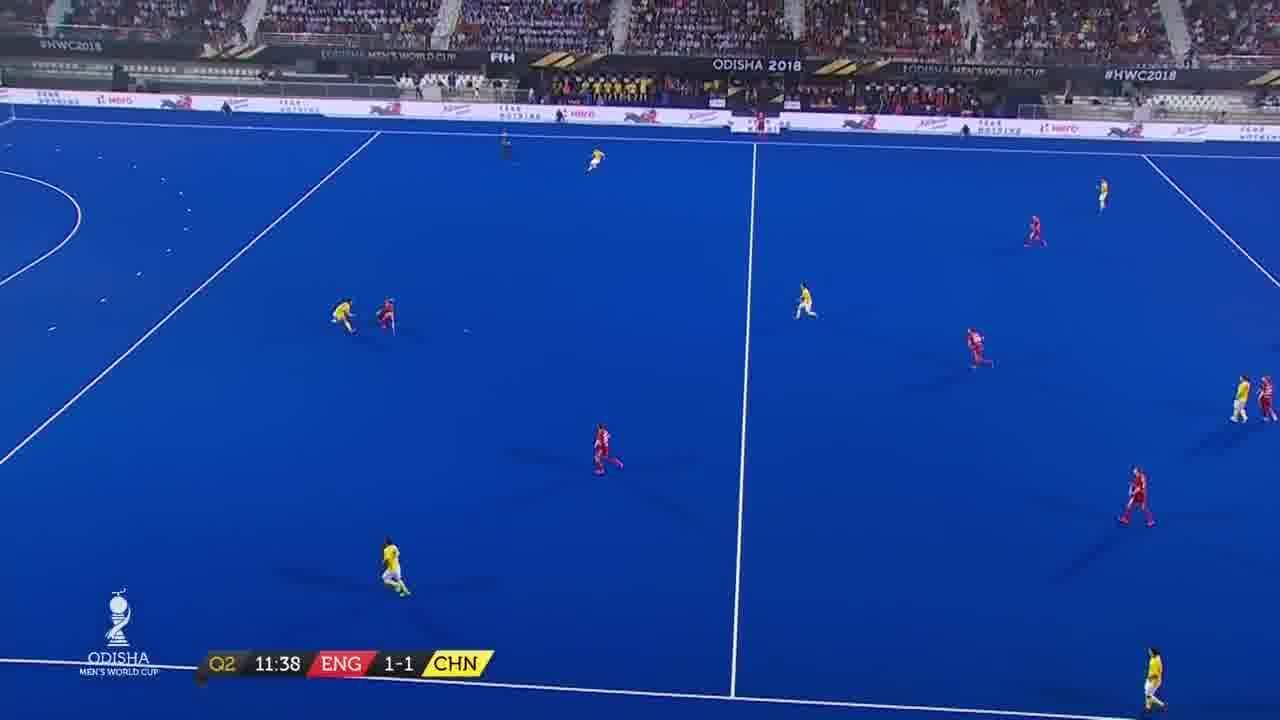ball: (461, 325, 474, 338)
